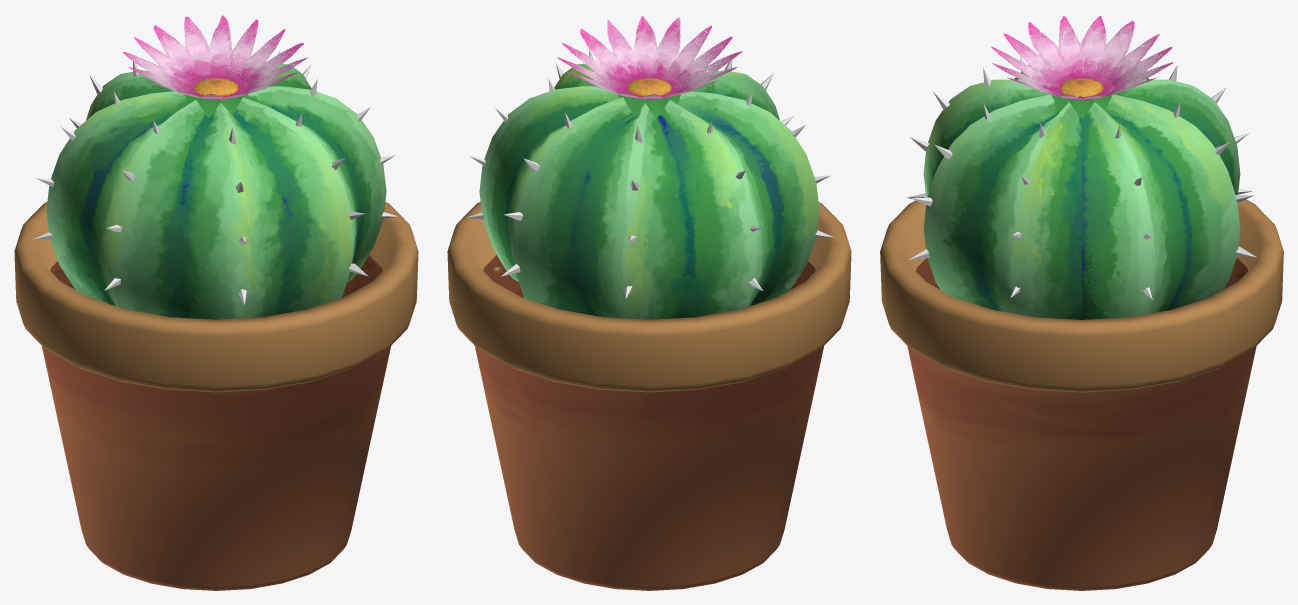
3 views of the same model, side by side, from view 1: azimuth 30°, elevation 25°; view 2: azimuth 150°, elevation 25°; view 3: azimuth 270°, elevation 25° (orthographic).
Parts seen in each view (by area): view 1: pot, cactus, Sphere, spikes; view 2: pot, cactus, Sphere, spikes; view 3: pot, cactus, Sphere, spikes.
Boxes of the visible parts, x1,y1,x2,y2 form: pot: (14, 201, 418, 590); cactus: (46, 57, 386, 319); Sphere: (123, 15, 308, 99); spikes: (33, 44, 398, 304); pot: (447, 201, 851, 590); cactus: (479, 57, 819, 319); Sphere: (557, 16, 742, 99); spikes: (466, 44, 833, 298); pot: (880, 199, 1283, 590); cactus: (923, 58, 1240, 319); Sphere: (991, 16, 1173, 100); spikes: (907, 50, 1256, 299).
Bounding box in the file's own units: 223 × 294 × 223.
4 materials, 3 textured.
